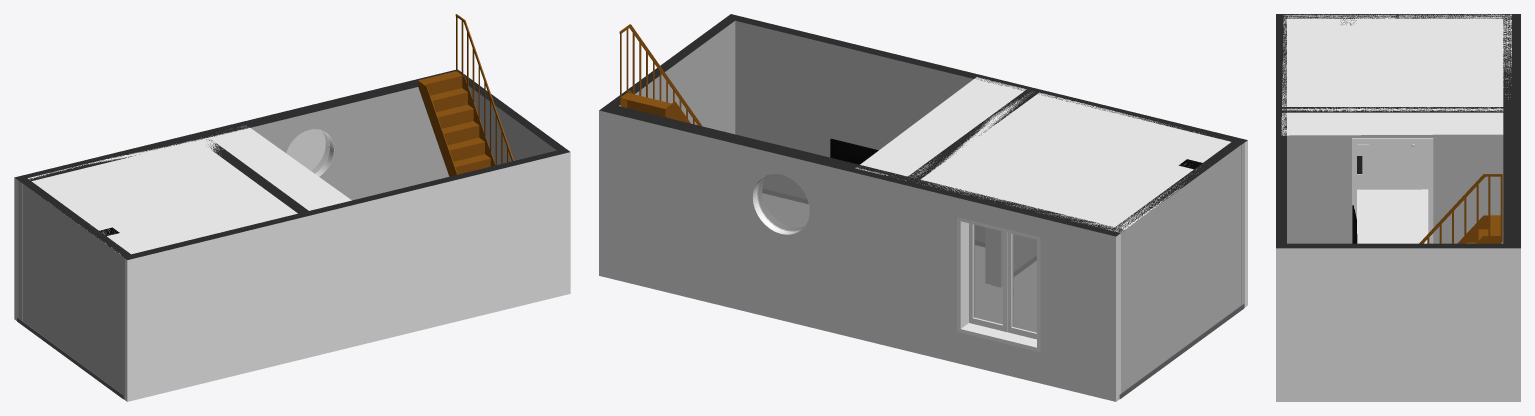
The model's file is escenario1.obj.
3 renders of one model, left to right at view 1: azimuth 30°, elevation 25°; view 2: azimuth 150°, elevation 25°; view 3: azimuth 270°, elevation 25°, orthographic. The views are drawn at different scales.
Visible parts, largest first — view 1: wall_3_19, room_7_39, wall_5_34, wall_1_6, wall_2_13, wall_1_7, wall_1_8, wall_3_21, wall_3_22, sweethome3d_window_pane_117, Bord_1_132, wall_1_5 (+7 smaller); view 2: wall_1_5, room_7_39, wall_3_20, wall_5_34, wall_2_13, frame_104, sweethome3d_window_pane_on_hinge_2_115, room_7_38, wall_1_7, wall_1_8, sweethome3d_window_pane_on_hinge_1_110, sweethome3d_window_pane_117 (+16 smaller); view 3: wall_2_12, room_7_39, wall_4_27, room_7_38, sweethome3d_opening_on_hinge_1_door_64, wall_1_7, wall_1_8, wall_3_21, wall_3_22, Montant_40, wall_2_14, wall_2_15 (+10 smaller).
Boxes of the visible parts, box(x1,y1,x2,y2) form: wall_3_19: box(125, 152, 570, 401); room_7_39: box(28, 125, 351, 254); wall_5_34: box(22, 183, 122, 393); wall_1_6: box(18, 87, 449, 320); wall_2_13: box(468, 86, 556, 164); wall_1_7: box(14, 70, 455, 179); wall_1_8: box(19, 83, 417, 183); wall_3_21: box(125, 151, 569, 259); wall_3_22: box(122, 150, 562, 258); sweethome3d_window_pane_117: box(286, 129, 329, 173); Bord_1_132: box(418, 80, 457, 176); wall_1_5: box(14, 178, 18, 320); wall_1_5: box(599, 110, 1120, 401); room_7_39: box(855, 77, 1230, 232); wall_3_20: box(735, 21, 1244, 307); wall_5_34: box(1125, 145, 1241, 389); wall_2_13: box(619, 21, 735, 134); frame_104: box(957, 217, 1040, 352); sweethome3d_window_pane_on_hinge_2_115: box(973, 224, 1002, 324); room_7_38: box(975, 245, 1036, 331); wall_1_7: box(599, 108, 1120, 236); wall_1_8: box(609, 106, 1124, 232); sweethome3d_window_pane_on_hinge_1_110: box(1012, 234, 1036, 332); sweethome3d_window_pane_117: box(757, 173, 809, 230); wall_2_12: box(1276, 248, 1520, 401); room_7_39: box(1281, 14, 1511, 135); wall_4_27: box(1287, 134, 1503, 243); room_7_38: box(1357, 189, 1428, 243); sweethome3d_opening_on_hinge_1_door_64: box(1369, 141, 1421, 183); wall_1_7: box(1512, 14, 1520, 248); wall_1_8: box(1503, 14, 1511, 245); wall_3_21: box(1276, 14, 1281, 248); wall_3_22: box(1281, 14, 1286, 245); Montant_40: box(1352, 138, 1433, 243); wall_2_14: box(1277, 246, 1519, 248); wall_2_15: box(1282, 243, 1510, 245).
Size of the model in its own units: 819 by 362 by 361.
